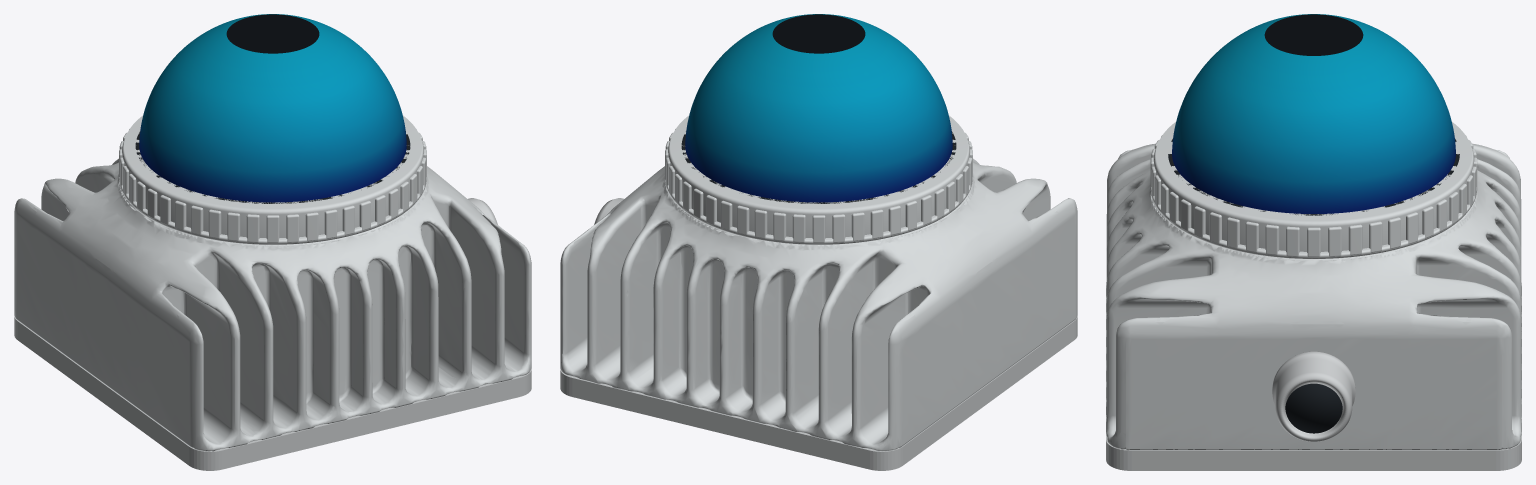
The model's file is livox_mid360.glb.
The picture shows the model from 3 angles, left to right: view 1: azimuth 30°, elevation 25°; view 2: azimuth 150°, elevation 25°; view 3: azimuth 270°, elevation 25°; orthographic projection. The views are drawn at different scales.
Visible parts, largest first — view 1: cast_heatsink_body, blue_optical_dome, bottom_plate_with_mounting_bores, knurled_retaining_ring, crown_cap, lower_seat, optical_seal; view 2: cast_heatsink_body, blue_optical_dome, bottom_plate_with_mounting_bores, knurled_retaining_ring, crown_cap, lower_seat, optical_seal; view 3: cast_heatsink_body, blue_optical_dome, bottom_plate_with_mounting_bores, knurled_retaining_ring, M12_outer_envelope, crown_cap, connector_insert, lower_seat, optical_seal, ring_rib_02, ring_rib_46.
Boxes of the visible parts, x1,y1,x2,y2 form: cast_heatsink_body: (14, 158, 531, 451); blue_optical_dome: (139, 14, 406, 202); bottom_plate_with_mounting_bores: (14, 316, 531, 470); knurled_retaining_ring: (122, 115, 423, 237); crown_cap: (226, 14, 319, 53); lower_seat: (119, 177, 426, 244); optical_seal: (135, 131, 410, 203); cast_heatsink_body: (560, 158, 1077, 451); blue_optical_dome: (685, 14, 952, 202); bottom_plate_with_mounting_bores: (560, 316, 1077, 470); knurled_retaining_ring: (668, 115, 969, 237); crown_cap: (772, 14, 865, 53); lower_seat: (665, 177, 972, 244); optical_seal: (681, 131, 956, 203); cast_heatsink_body: (1106, 143, 1521, 450); blue_optical_dome: (1172, 14, 1455, 213); bottom_plate_with_mounting_bores: (1106, 285, 1521, 470); knurled_retaining_ring: (1153, 121, 1474, 251); M12_outer_envelope: (1272, 351, 1355, 441); crown_cap: (1264, 14, 1363, 55); connector_insert: (1285, 383, 1342, 433); lower_seat: (1151, 187, 1476, 258); optical_seal: (1168, 139, 1459, 215); ring_rib_02: (1348, 224, 1362, 255); ring_rib_46: (1265, 224, 1279, 255).
Bounding box in the file's own units: 0.073 × 0.06 × 0.065.
7 materials, 1 textured.
